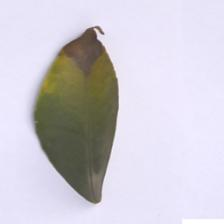black spot: (64, 34, 120, 75)
